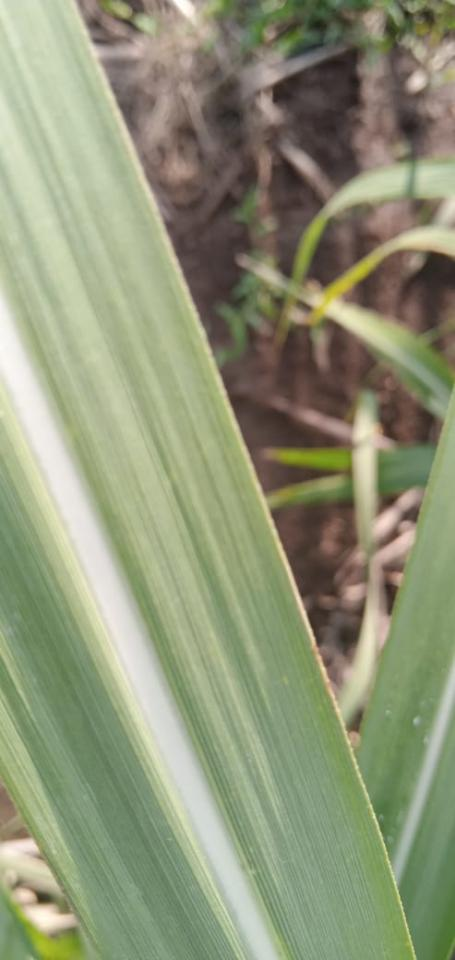Healthy: (3, 1, 421, 959), (0, 388, 253, 959), (355, 393, 454, 864), (398, 703, 454, 959)
